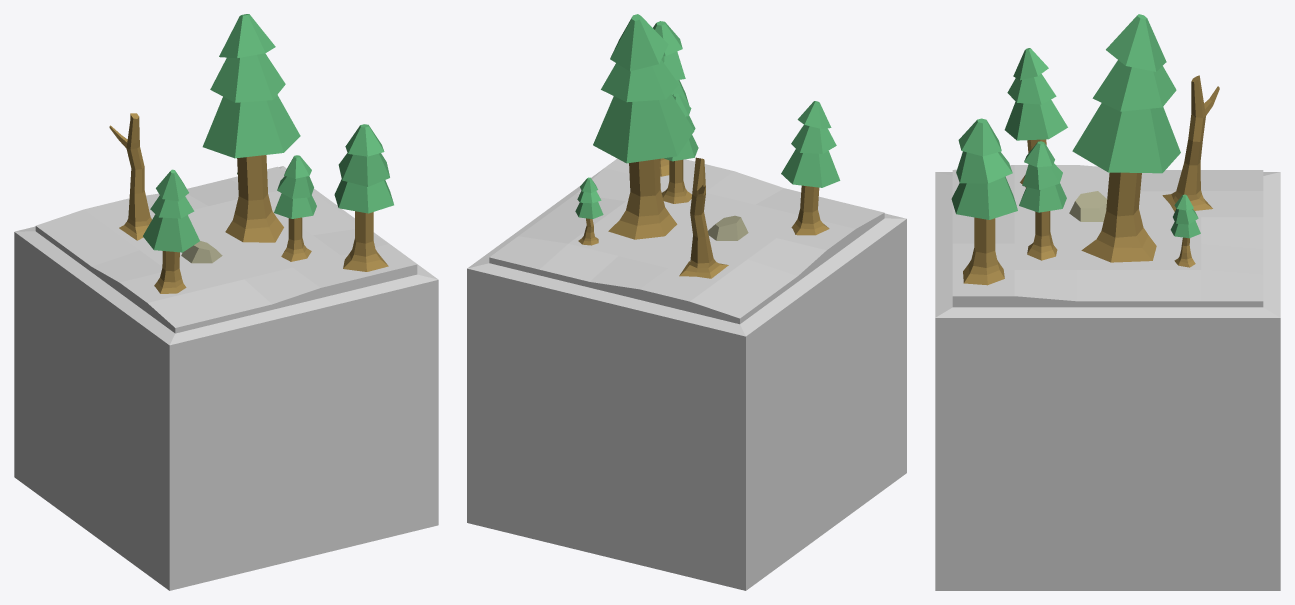
Rendered from tile_wood_1.fbx.
3 renders of one model, left to right at view 1: azimuth 30°, elevation 25°; view 2: azimuth 150°, elevation 25°; view 3: azimuth 270°, elevation 25°, orthographic. The views are drawn at different scales.
Visible parts, largest first — view 1: Tile, Tree_6, Ground; view 2: Tile, Ground, Tree_6; view 3: Tile, Tree_6, Ground.
Boxes of the visible parts, x1=… form: Tile: x1=14, y1=166, x2=438, y2=590; Tree_6: x1=109, y1=14, x2=393, y2=293; Ground: x1=35, y1=166, x2=417, y2=333; Tile: x1=467, y1=159, x2=906, y2=590; Ground: x1=489, y1=158, x2=884, y2=324; Tree_6: x1=575, y1=14, x2=840, y2=278; Tile: x1=935, y1=172, x2=1280, y2=590; Tree_6: x1=951, y1=14, x2=1219, y2=285; Ground: x1=952, y1=165, x2=1263, y2=307.
Size of the model in its own units: 0.04 by 0.0665 by 0.04.
